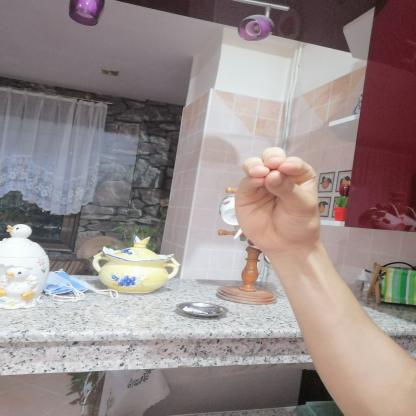HA: (217, 137, 342, 266)
